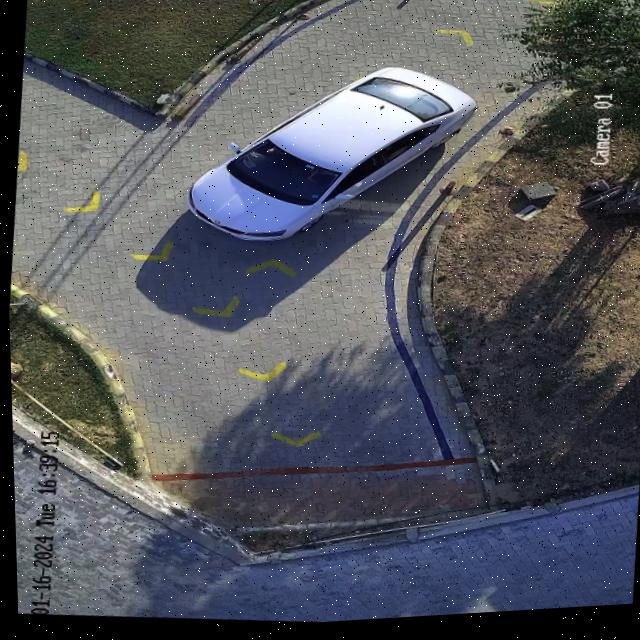car: (187, 71, 474, 242)
